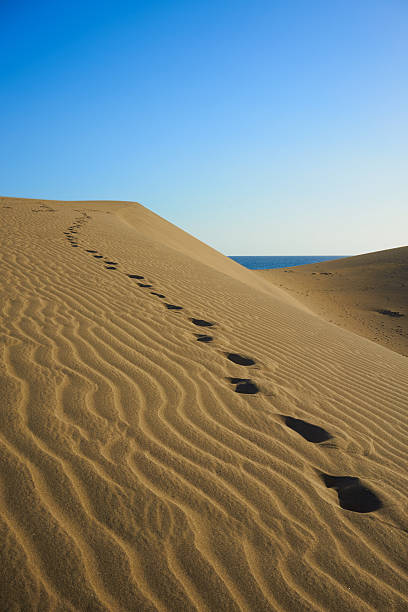human_footprint: (320, 473, 382, 512), (281, 415, 332, 442), (228, 377, 258, 394), (226, 352, 254, 365), (190, 318, 214, 326), (164, 303, 182, 309)
